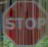Stop: (5, 1, 47, 45)
